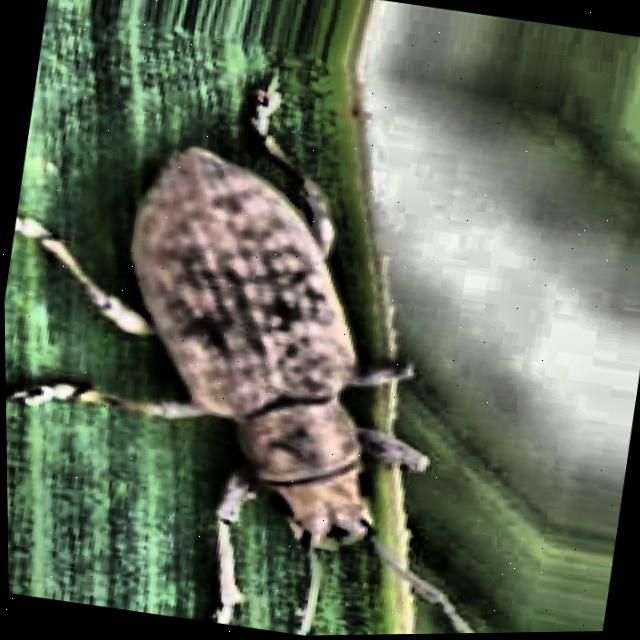Stink bug: (6, 96, 531, 640)
